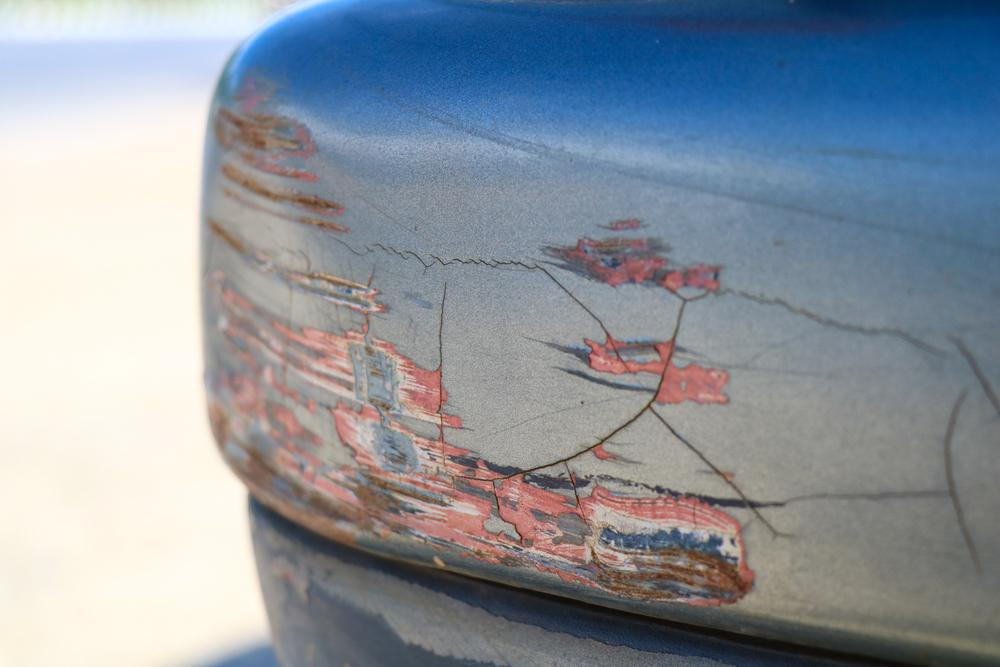scratch: (204, 75, 801, 612)
